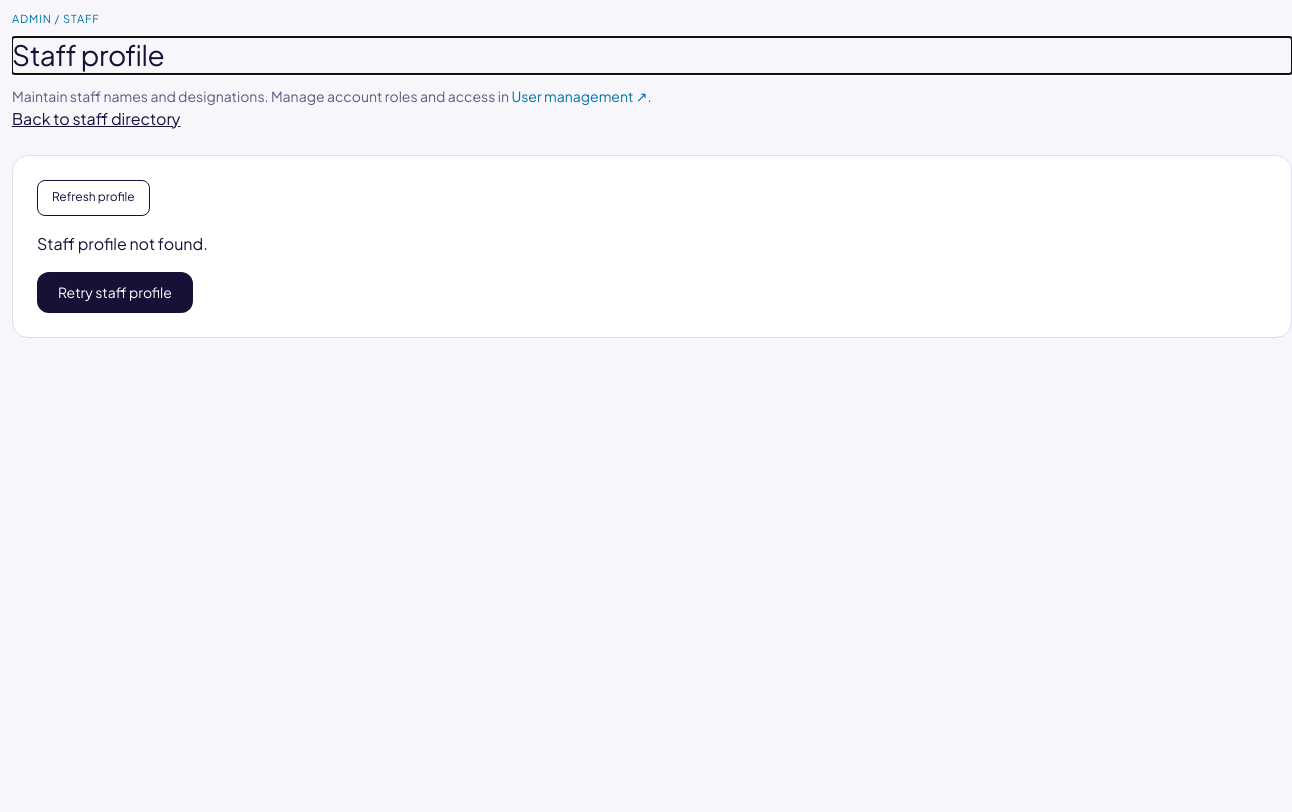
Scenario: provides missing profile recovery
expect the message shows "not found": met, box [37,233,208,254]
Click the button "Retry staff profile".
click(115, 292)  # box [37,272,193,313]
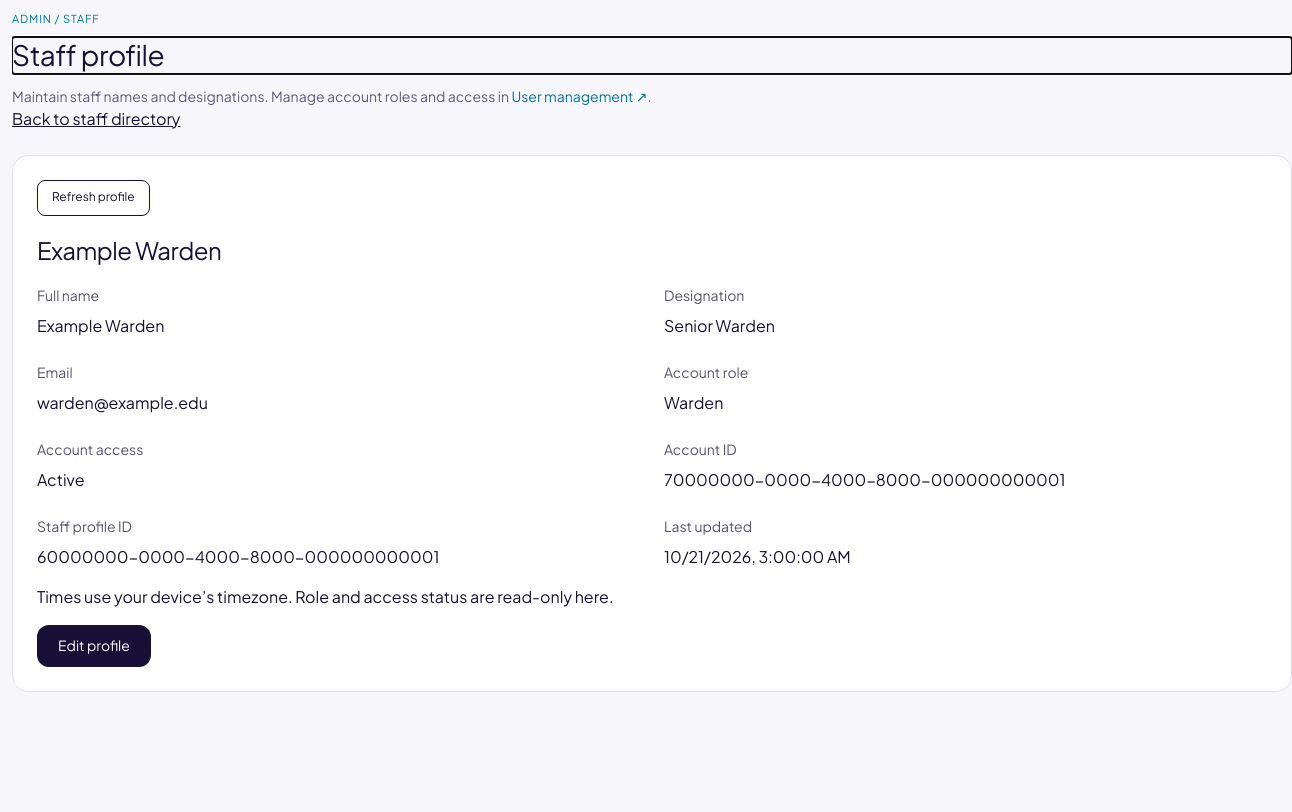
expect the button "Edit profile" is shown: met, box [37,625,151,667]
